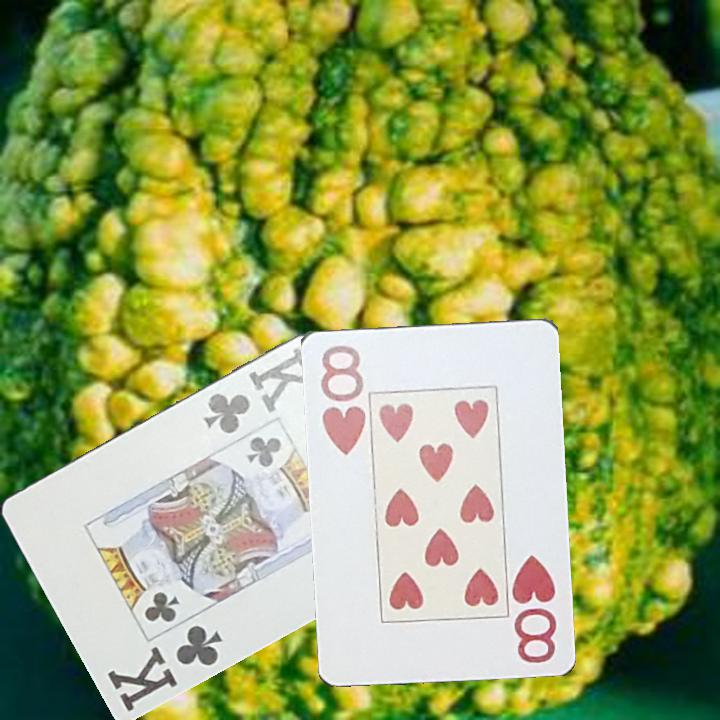8h: (508, 550, 559, 666), (316, 341, 366, 457)
Kc: (198, 344, 322, 438), (103, 621, 226, 715)
